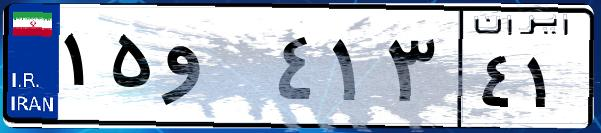1: (330, 28, 385, 110), (57, 26, 110, 100), (525, 38, 570, 115)
3: (385, 28, 445, 110)
4: (270, 28, 330, 110), (475, 38, 525, 113)
5: (110, 28, 158, 98)
و: (158, 20, 270, 120)
